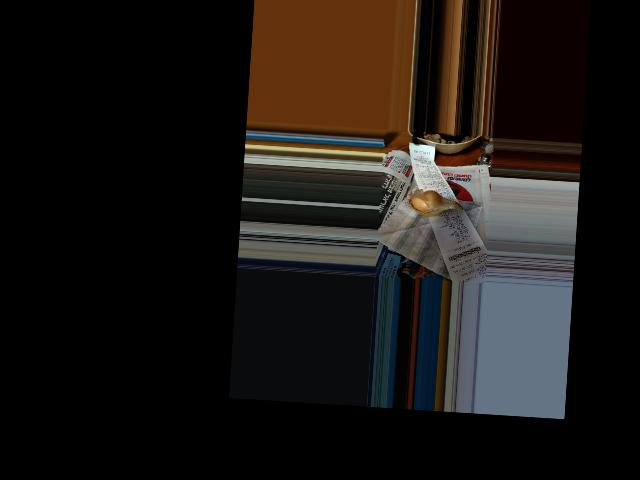onion: (408, 189, 456, 218)
